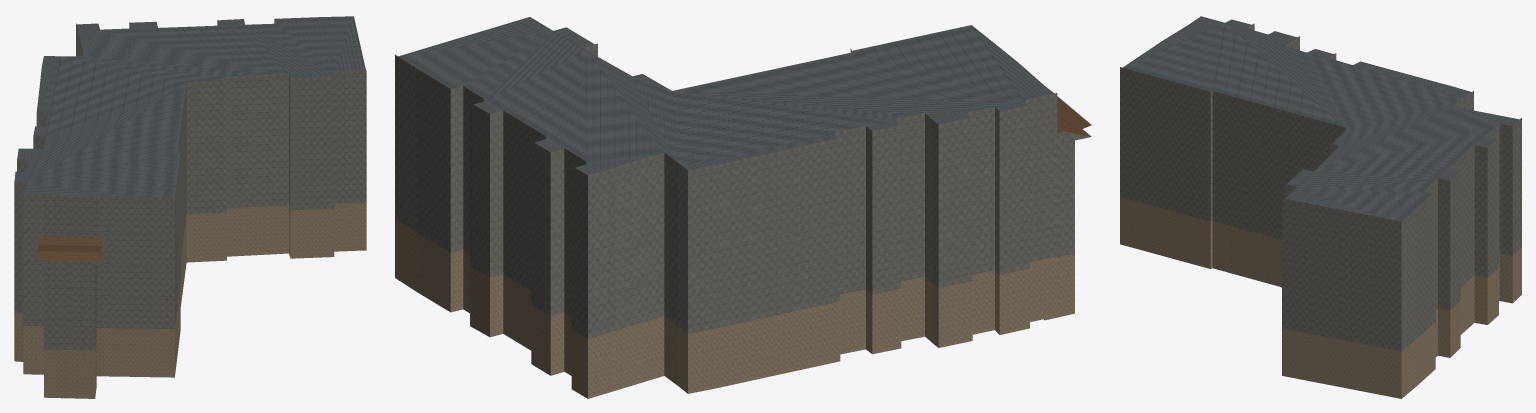
File: bld_c0_-3_555.gltf
The picture shows the model from 3 angles, left to right: view 1: azimuth 30°, elevation 25°; view 2: azimuth 150°, elevation 25°; view 3: azimuth 270°, elevation 25°; orthographic projection. The views are drawn at different scales.
Parts seen in each view (by area): view 1: bld_c0_-3_555; view 2: bld_c0_-3_555; view 3: bld_c0_-3_555.
Boxes of the visible parts, bbox=[...] form: bld_c0_-3_555: bbox=[14, 16, 366, 398]; bld_c0_-3_555: bbox=[395, 17, 1091, 398]; bld_c0_-3_555: bbox=[1120, 16, 1521, 398].
Size of the model in its own units: 48.41 by 20.18 by 38.96.
Materials: 5 (5 with a texture image).
